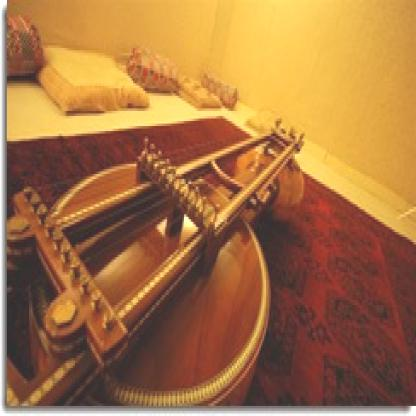Veena: (15, 100, 317, 405)
